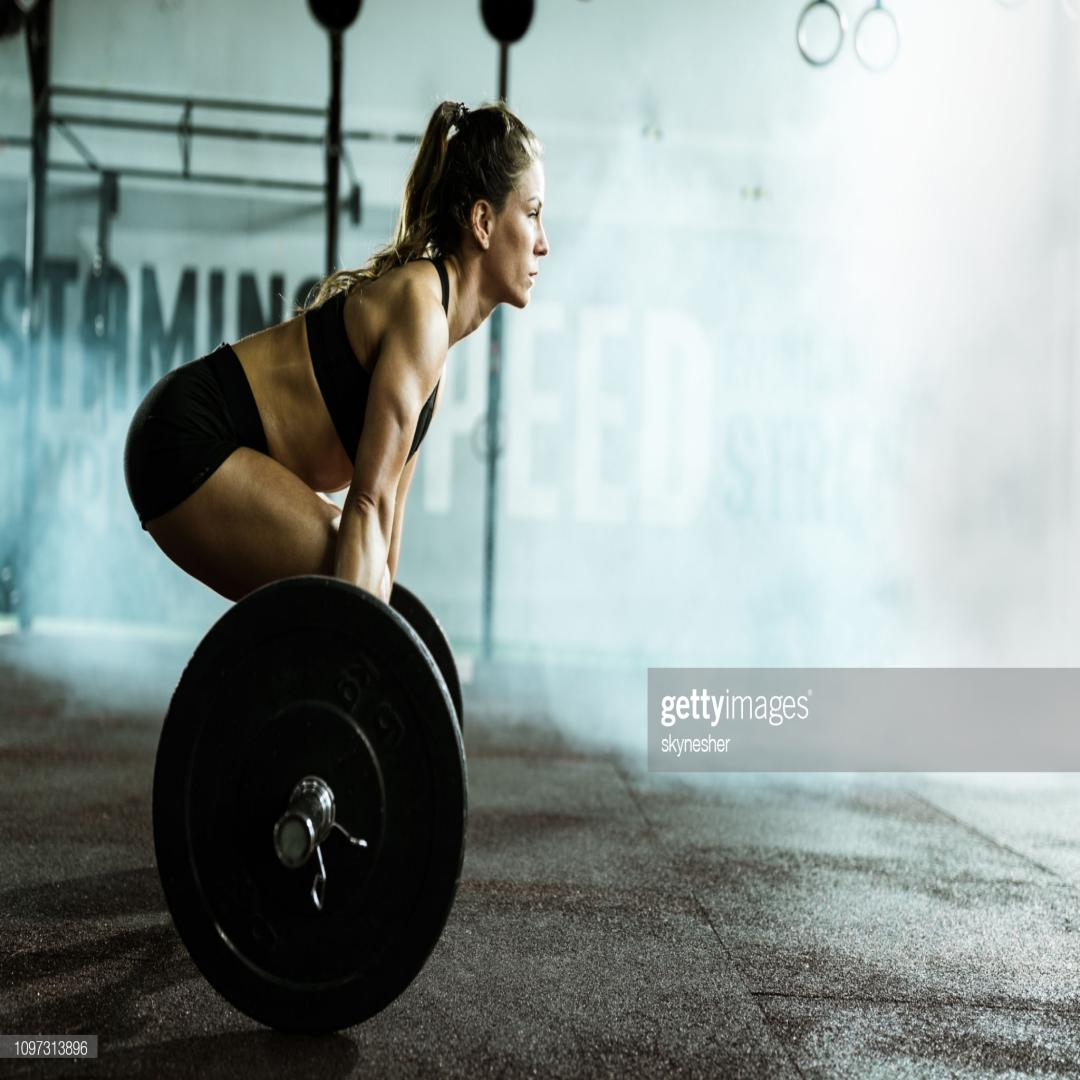Bar: (274, 810, 316, 870)
Barbell: (153, 578, 468, 1022)
